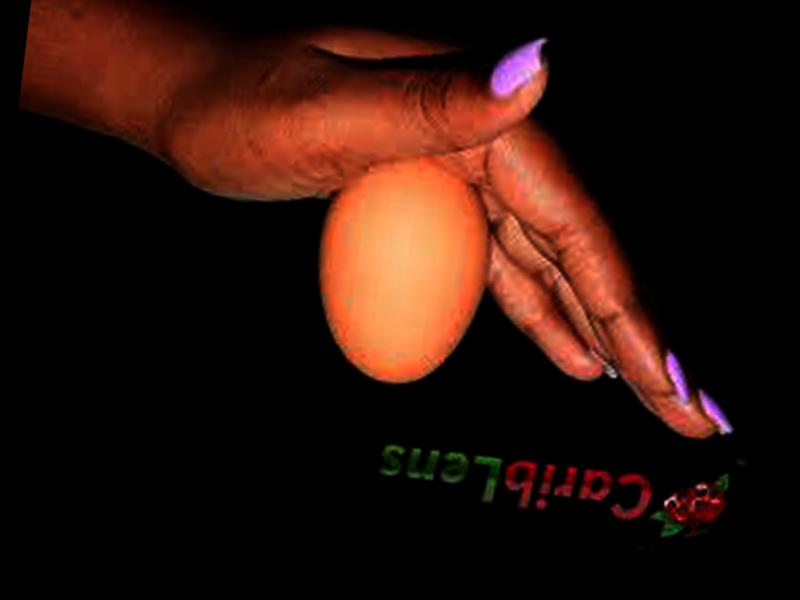Eggs: (302, 150, 501, 395)
